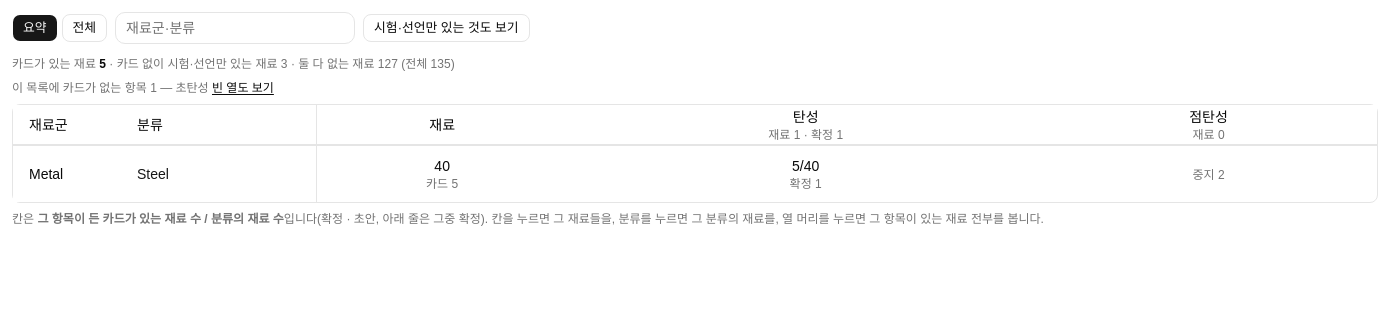
Scenario: 요약과 전체 › 요약의 칸을 누르면 그 분류 · 그 항목의 재료 줄로 간다
Click the button with aria-label "Metal · Steel · 탄성 재료 보기": (806, 174) [786,154,826,194]
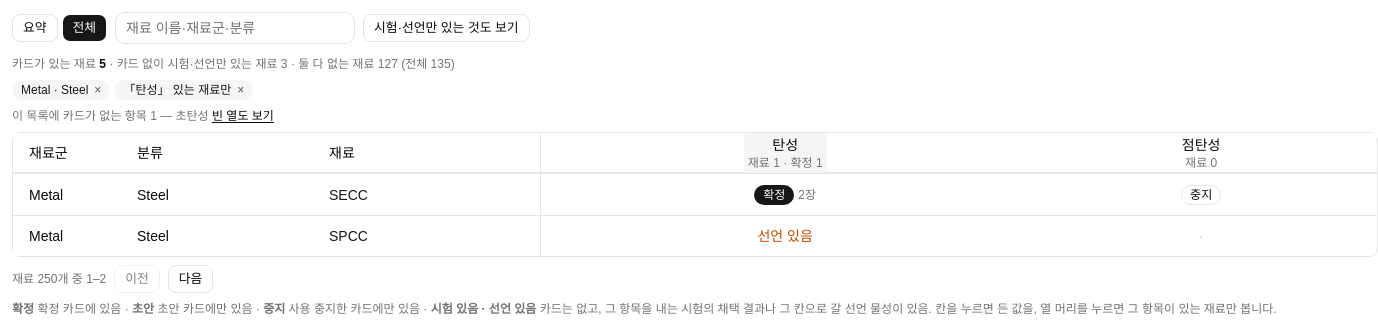
Now the text "Metal · Steel" is shown, box [21,83,88,97]
Now the text "「탄성」 있는 재료만 ×" is shown, box [114,80,253,100]
